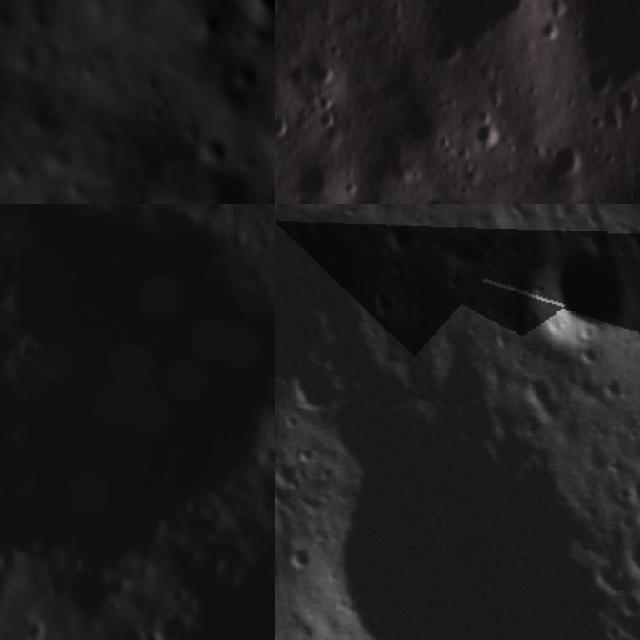crater: (277, 385, 640, 640), (525, 231, 640, 362), (538, 0, 640, 98), (420, 0, 546, 78), (277, 359, 351, 427), (397, 99, 448, 150), (373, 210, 420, 263), (466, 112, 509, 156), (187, 4, 230, 46), (543, 136, 582, 182), (615, 528, 640, 593), (523, 204, 592, 226), (239, 0, 275, 34), (609, 601, 640, 640), (305, 55, 334, 91), (619, 217, 640, 266), (420, 188, 463, 204), (0, 538, 12, 589), (275, 101, 290, 140), (291, 192, 320, 204)
